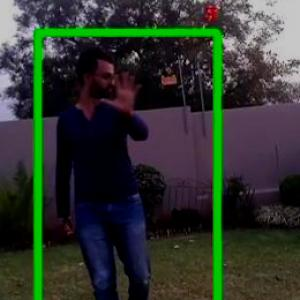follow_hand: (102, 66, 146, 115)
